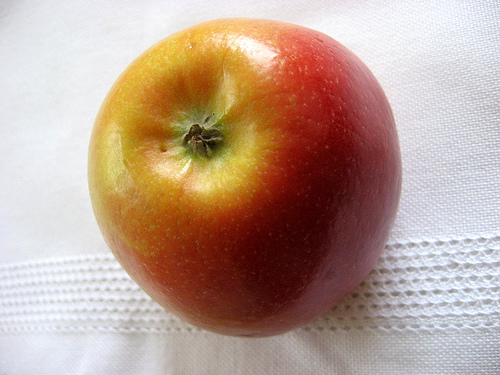apple: (86, 18, 401, 336)
